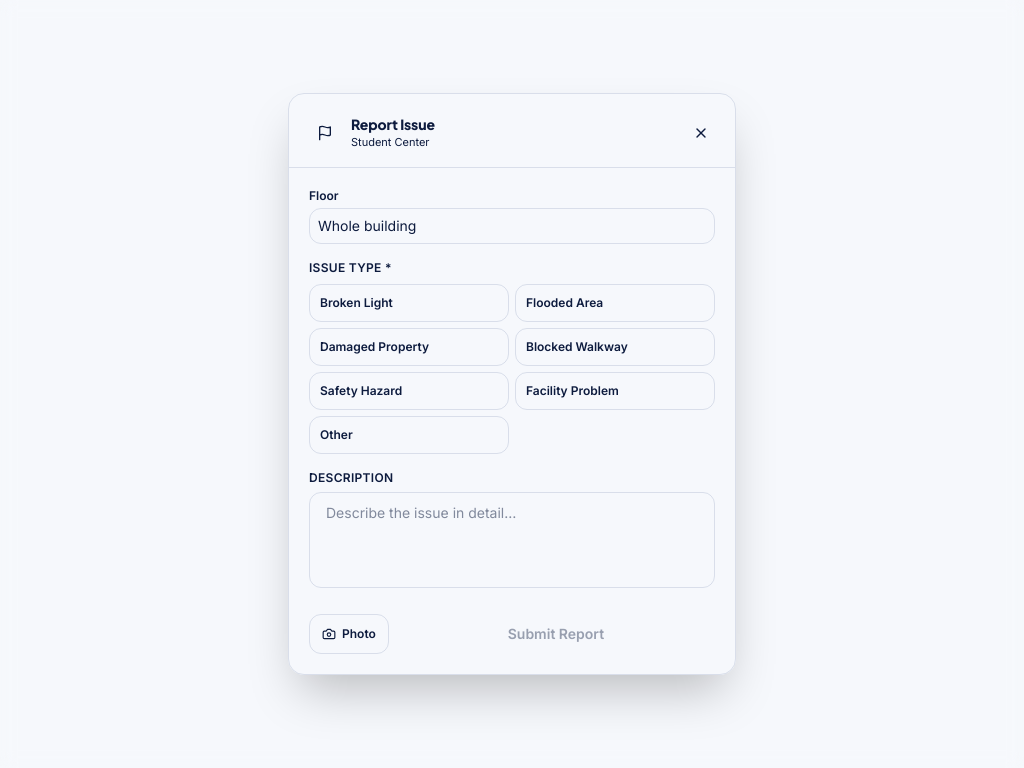
Test: student building and room reporting › keeps the form and description available for retry on failure
Type "Flood near the door" into the text box labelled "Description" at [512, 540], box [309,492,715,588]
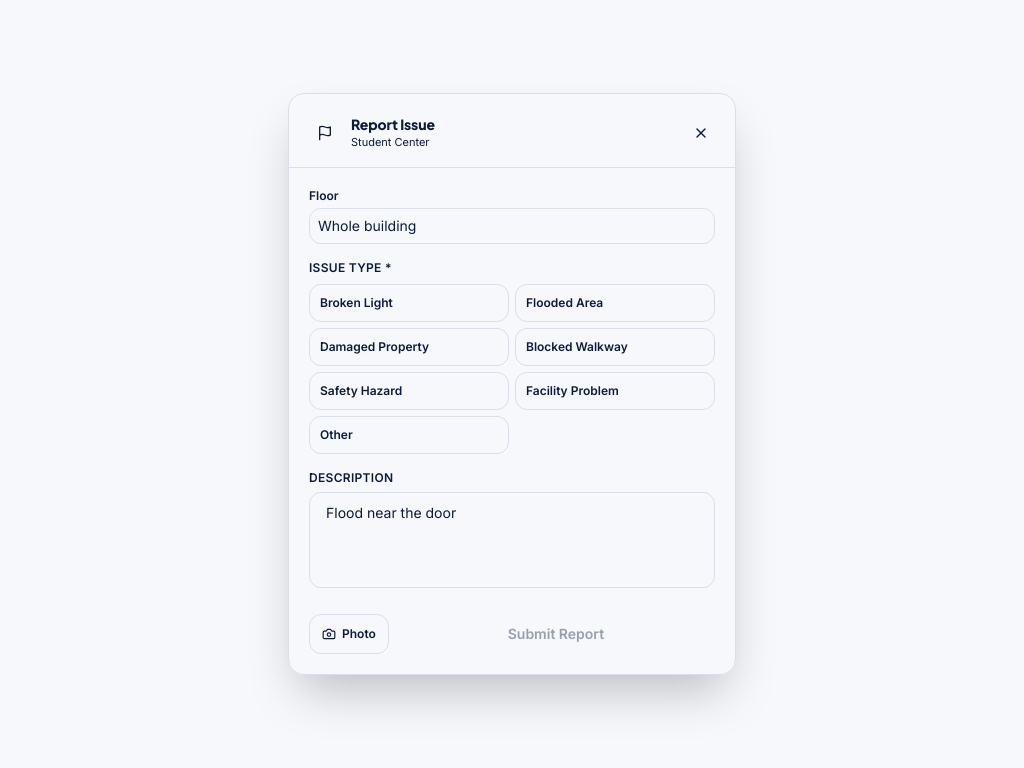
Click the radio button labelled "Flooded Area" at [615, 303], box [515,284,715,322]
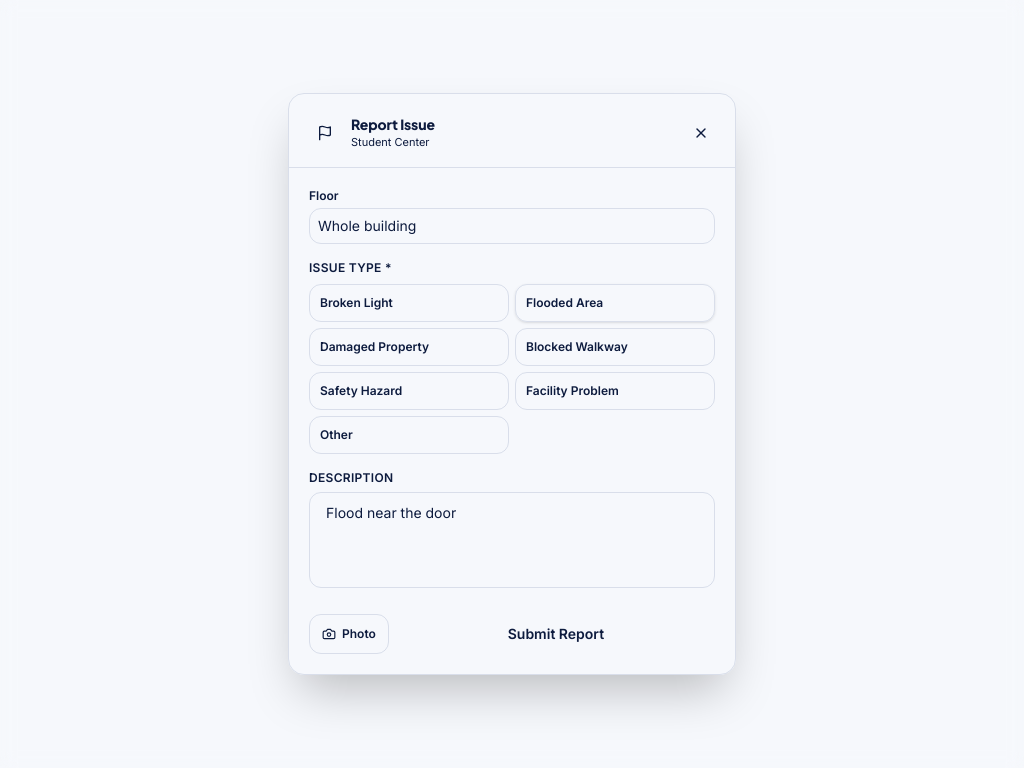
Click the button "Submit Report" at [556, 634], box [397,614,715,654]
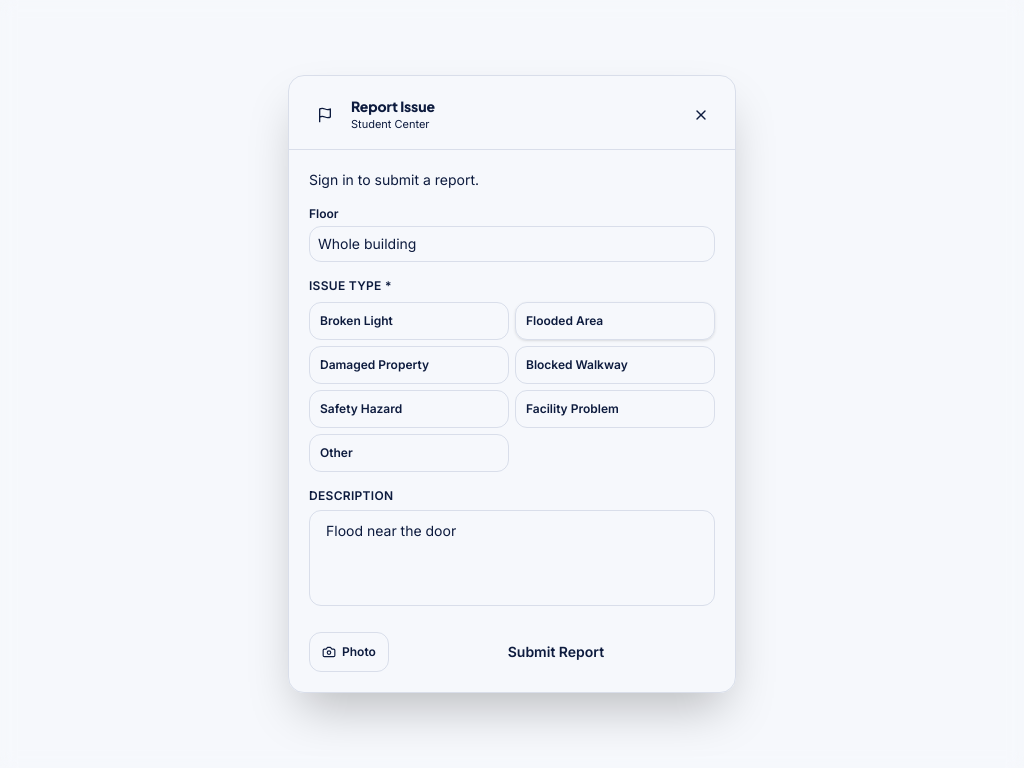
Check: the message shows "Sign in", box [309,171,479,188]
